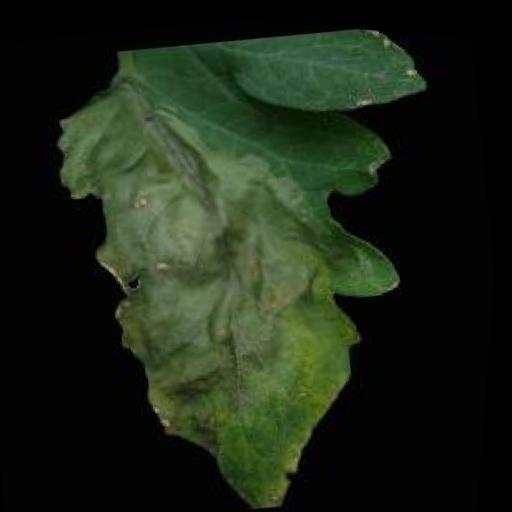Late Blight: (18, 3, 494, 512)
